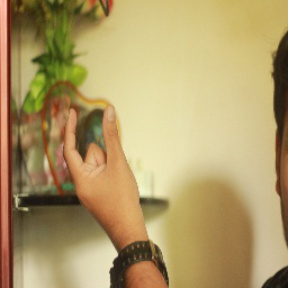U: (55, 99, 149, 230)
